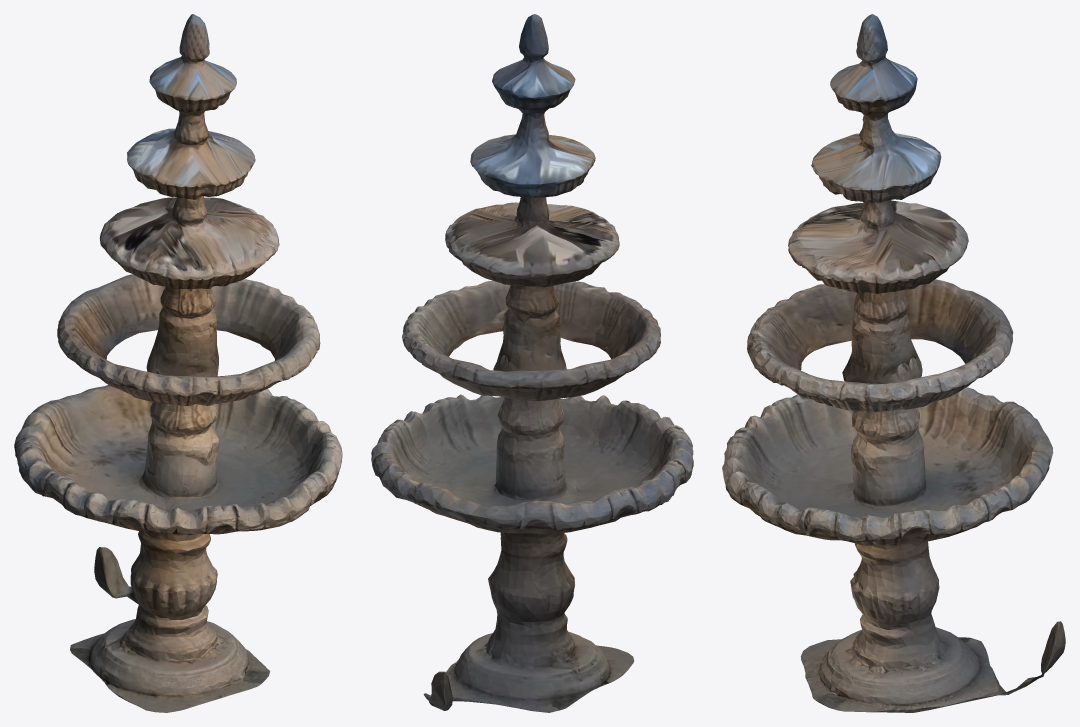
Rendered from fountain2.glb.
3 views of the same model, side by side, from view 1: azimuth 30°, elevation 25°; view 2: azimuth 150°, elevation 25°; view 3: azimuth 270°, elevation 25° (orthographic). The views are drawn at different scales.
Size of the model in its own units: 0.7905 by 1.79 by 0.8208.
Materials: 1 (1 with a texture image).
